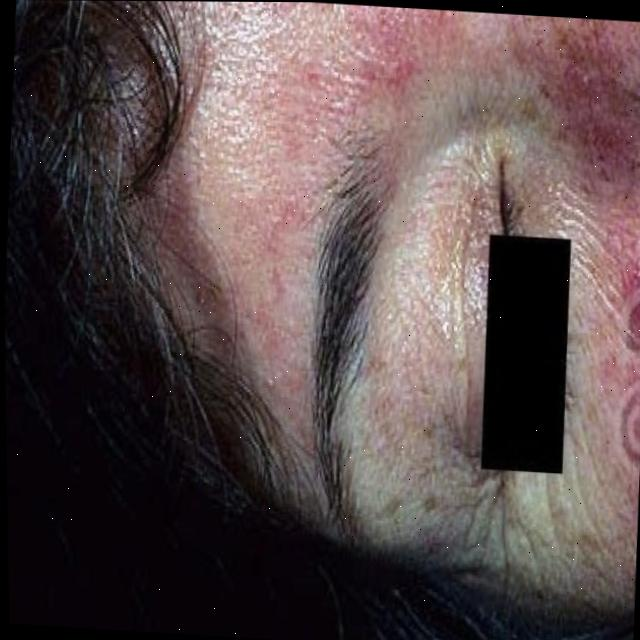Rosacea: (211, 2, 425, 383), (533, 15, 640, 465)
